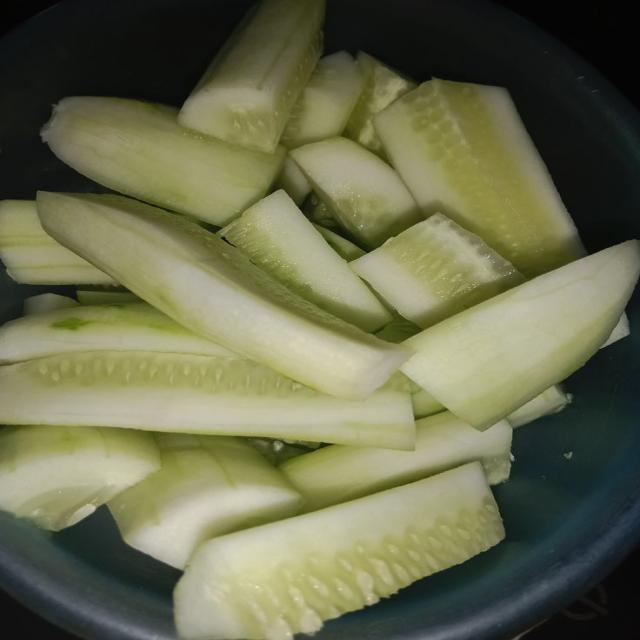cucumber sliced: (39, 192, 410, 399), (174, 463, 504, 639), (401, 241, 639, 429), (374, 79, 584, 277), (0, 351, 414, 449), (42, 97, 285, 225), (108, 434, 301, 568), (219, 190, 391, 332), (280, 412, 512, 512), (179, 0, 324, 152), (350, 214, 524, 328), (0, 426, 159, 530), (0, 301, 235, 364), (290, 138, 423, 247), (0, 200, 114, 284), (281, 51, 364, 148), (345, 51, 416, 158), (507, 385, 571, 427), (313, 223, 366, 262), (246, 438, 321, 465), (274, 155, 312, 206), (302, 192, 339, 229), (411, 381, 445, 420), (376, 314, 421, 343), (24, 293, 79, 315), (601, 314, 630, 348), (77, 290, 141, 305)
